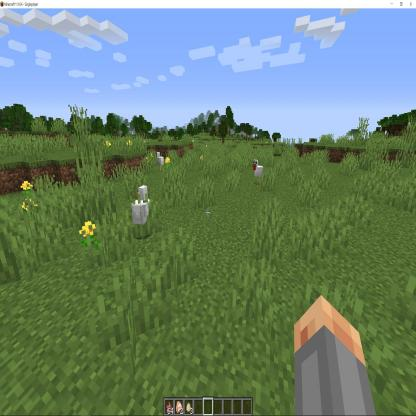minecraft-pigs: (130, 183, 152, 234), (250, 157, 264, 192), (156, 148, 166, 172)
